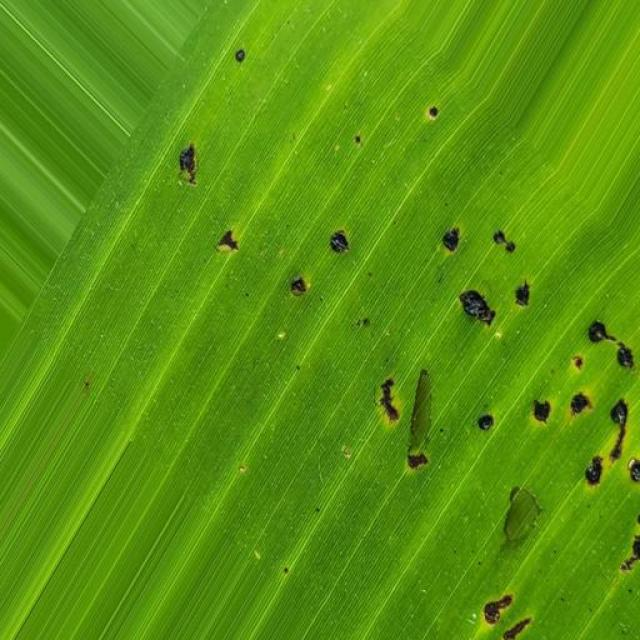Black_rot: (178, 34, 640, 640)
